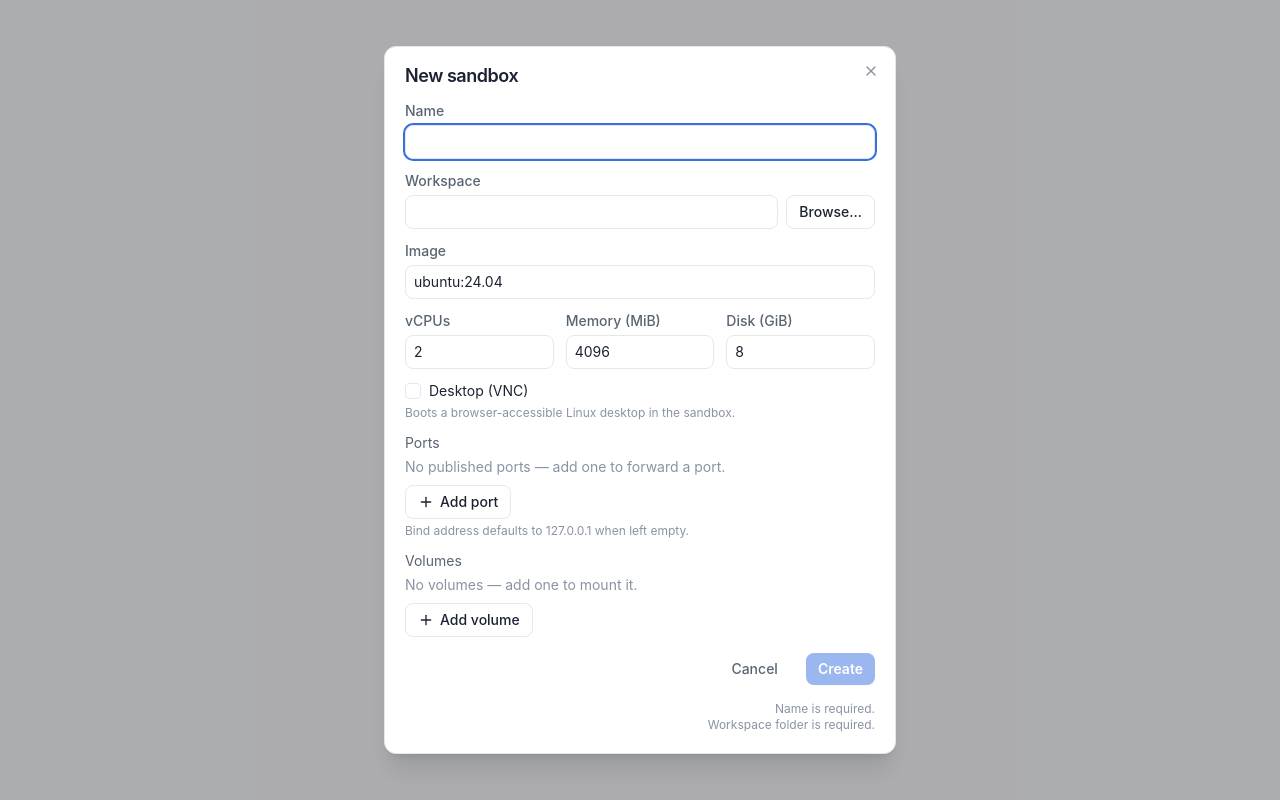
NewSandbox › surfaces a create error
This screenshot has width=1280, height=800.
Type "x" into the field labelled "Name" at (640,142), box [405,125,875,159]
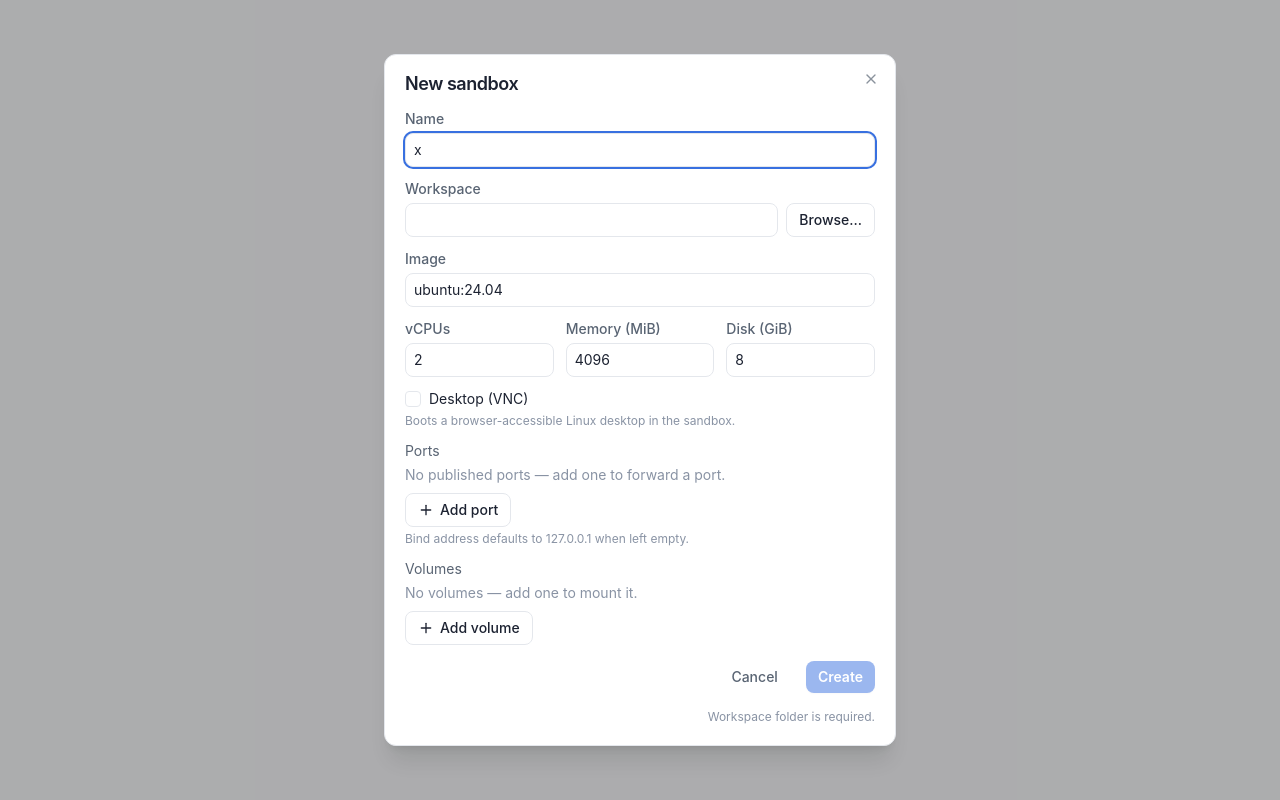
Type "/ws" into the field labelled "Workspace" at (592,220), box [405,203,778,237]
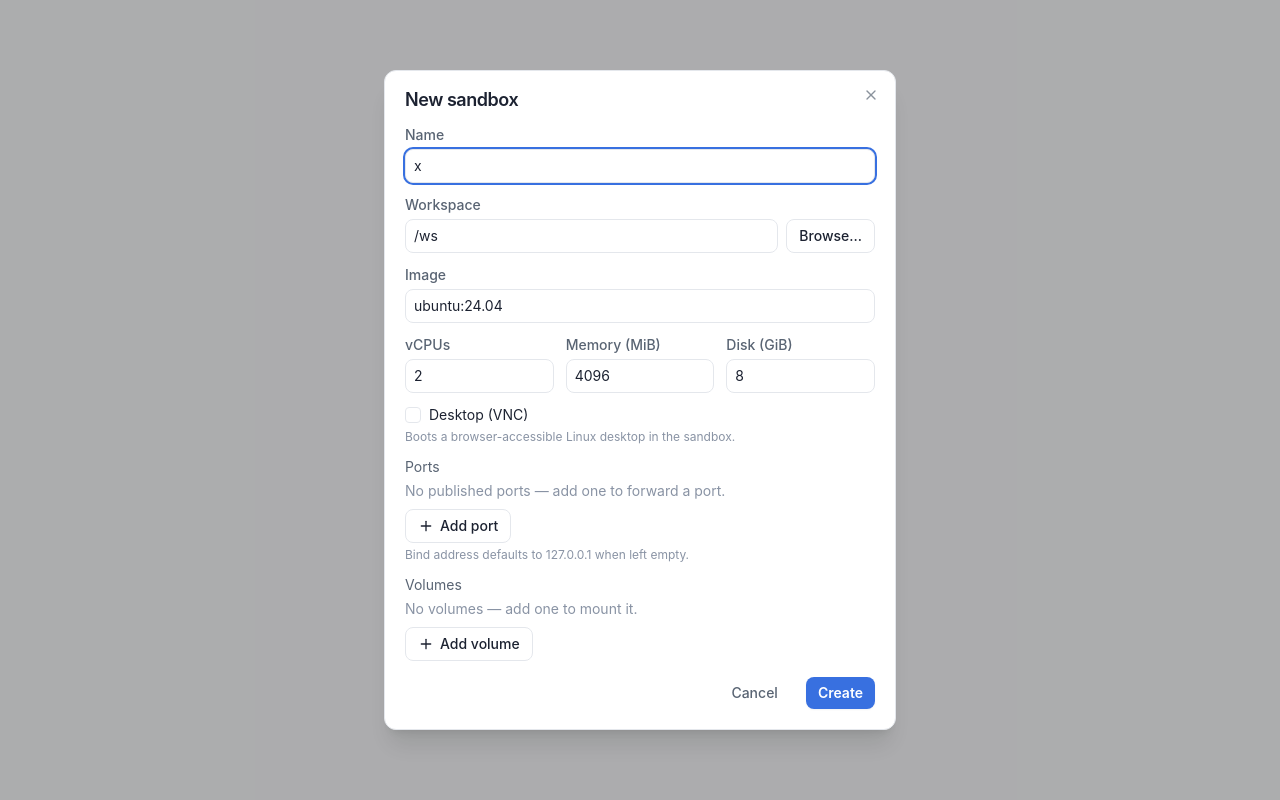
Click the button "Create" at (840,693), box [806,677,875,709]
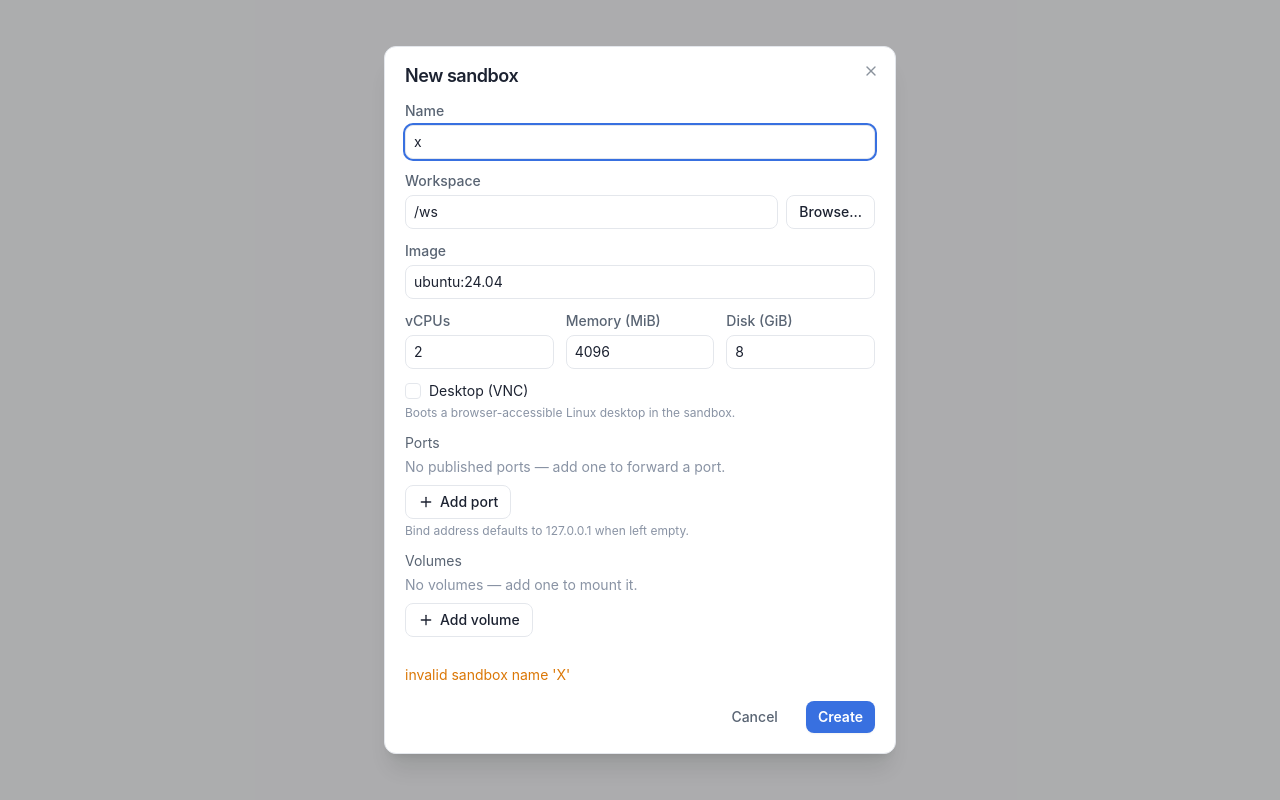
expect the text "invalid sandbox name 'X'" is shown: met, box [405,666,570,683]
